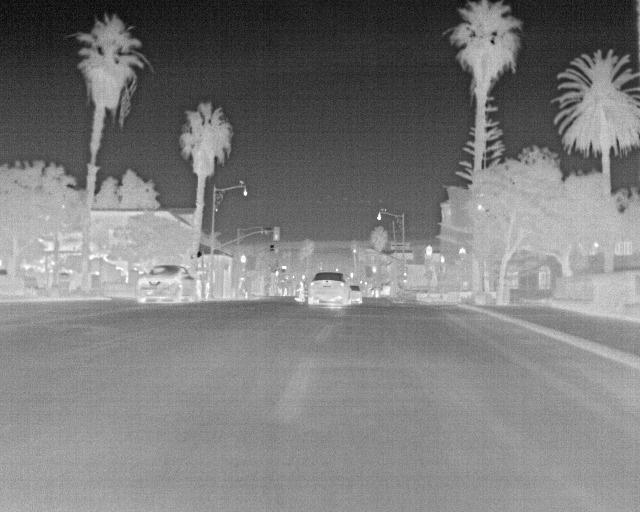car: (136, 264, 198, 307), (308, 270, 351, 308), (346, 284, 364, 306)
